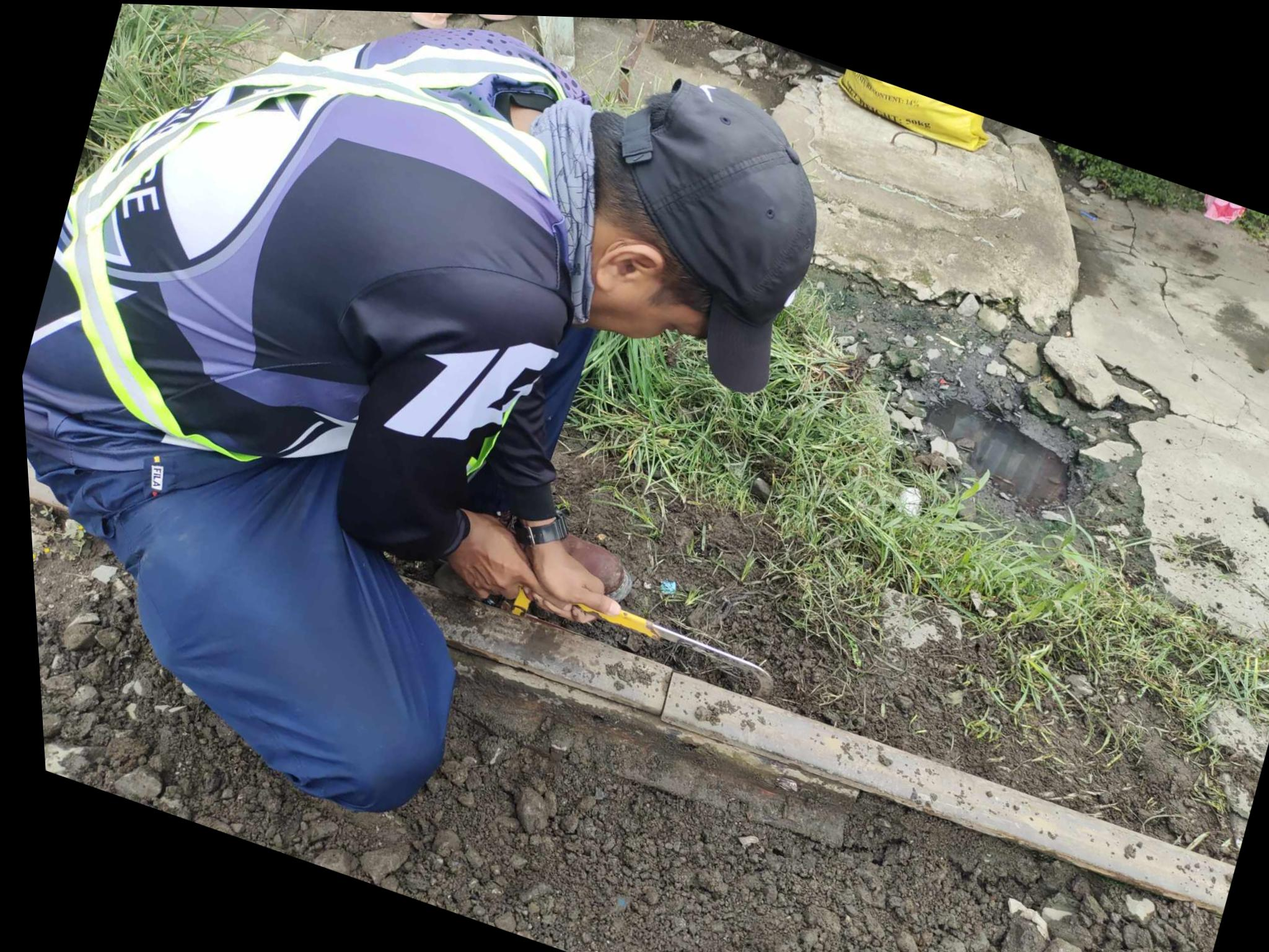person: (596, 630, 722, 754)
